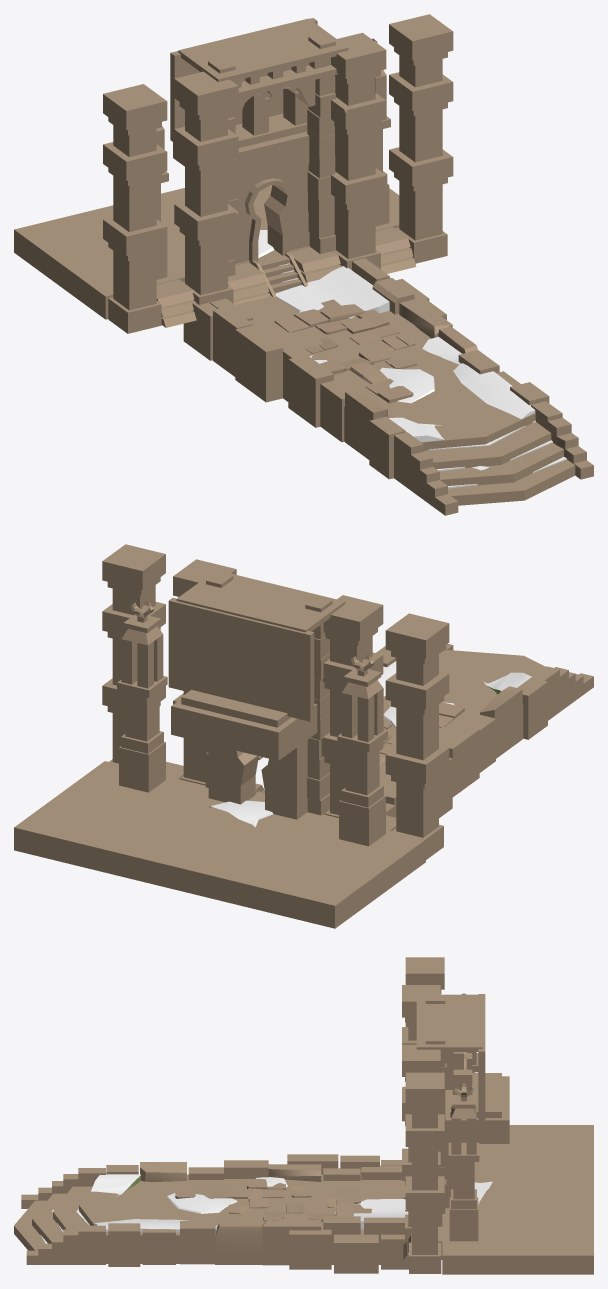
Rendered from ston floor2__.FBX.
3 renders of one model, top to bottom at view 1: azimuth 30°, elevation 25°; view 2: azimuth 150°, elevation 25°; view 3: azimuth 270°, elevation 25°, orthographic. The views are drawn at different scales.
Visible parts, largest first — view 1: Stone tower, Stone floor, Stairway entrance, snow (×4), ston264, ston257, ston269, ston266; view 2: Stone tower, Stairway entrance, Stone floor, snow058, snow; view 3: Stone floor, Stone tower, Stairway entrance, snow (×4).
Boxes of the visible parts, x1,y1,x2,y2 form: Stone tower: (103, 14, 453, 333); Stone floor: (183, 258, 593, 515); Stairway entrance: (14, 185, 399, 319); snow (×4): (275, 266, 535, 441); ston264: (274, 309, 329, 332); ston257: (341, 309, 389, 333); ston269: (365, 378, 413, 403); ston266: (318, 299, 367, 322); Stone tower: (102, 544, 449, 859); Stairway entrance: (14, 761, 425, 928); Stone floor: (258, 643, 593, 817); snow058: (209, 800, 273, 827); snow: (483, 672, 531, 694); Stone floor: (14, 1154, 408, 1273); Stone tower: (402, 957, 509, 1273); Stairway entrance: (403, 1125, 593, 1274); snow (×4): (91, 1174, 408, 1232).
Size of the model in its own units: 45.57 by 34.94 by 84.7.
